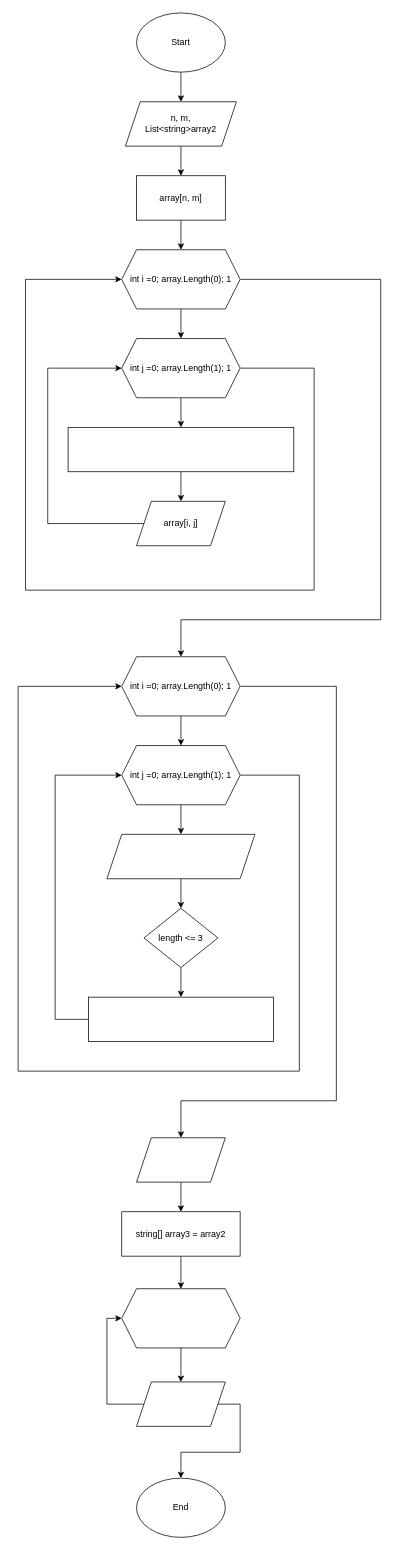
The diagram is 400 pixels wide and 1550 high, and some of its shapes have lost their labels. The shapes that lost their labels are listed below. From the top down, each one's centre as x and y in pixels, then its label:
point (180, 449): array[i, j] = Convert.ToString(Console.ReadLine() && "0")
point (180, 856): length = array[i, j].Length
point (180, 1019): array2.Add(new String(array[i, j]))
point (180, 1159): string[] array3
point (180, 1318): int j =0; array.Length; 1
point (180, 1403): array[i]
